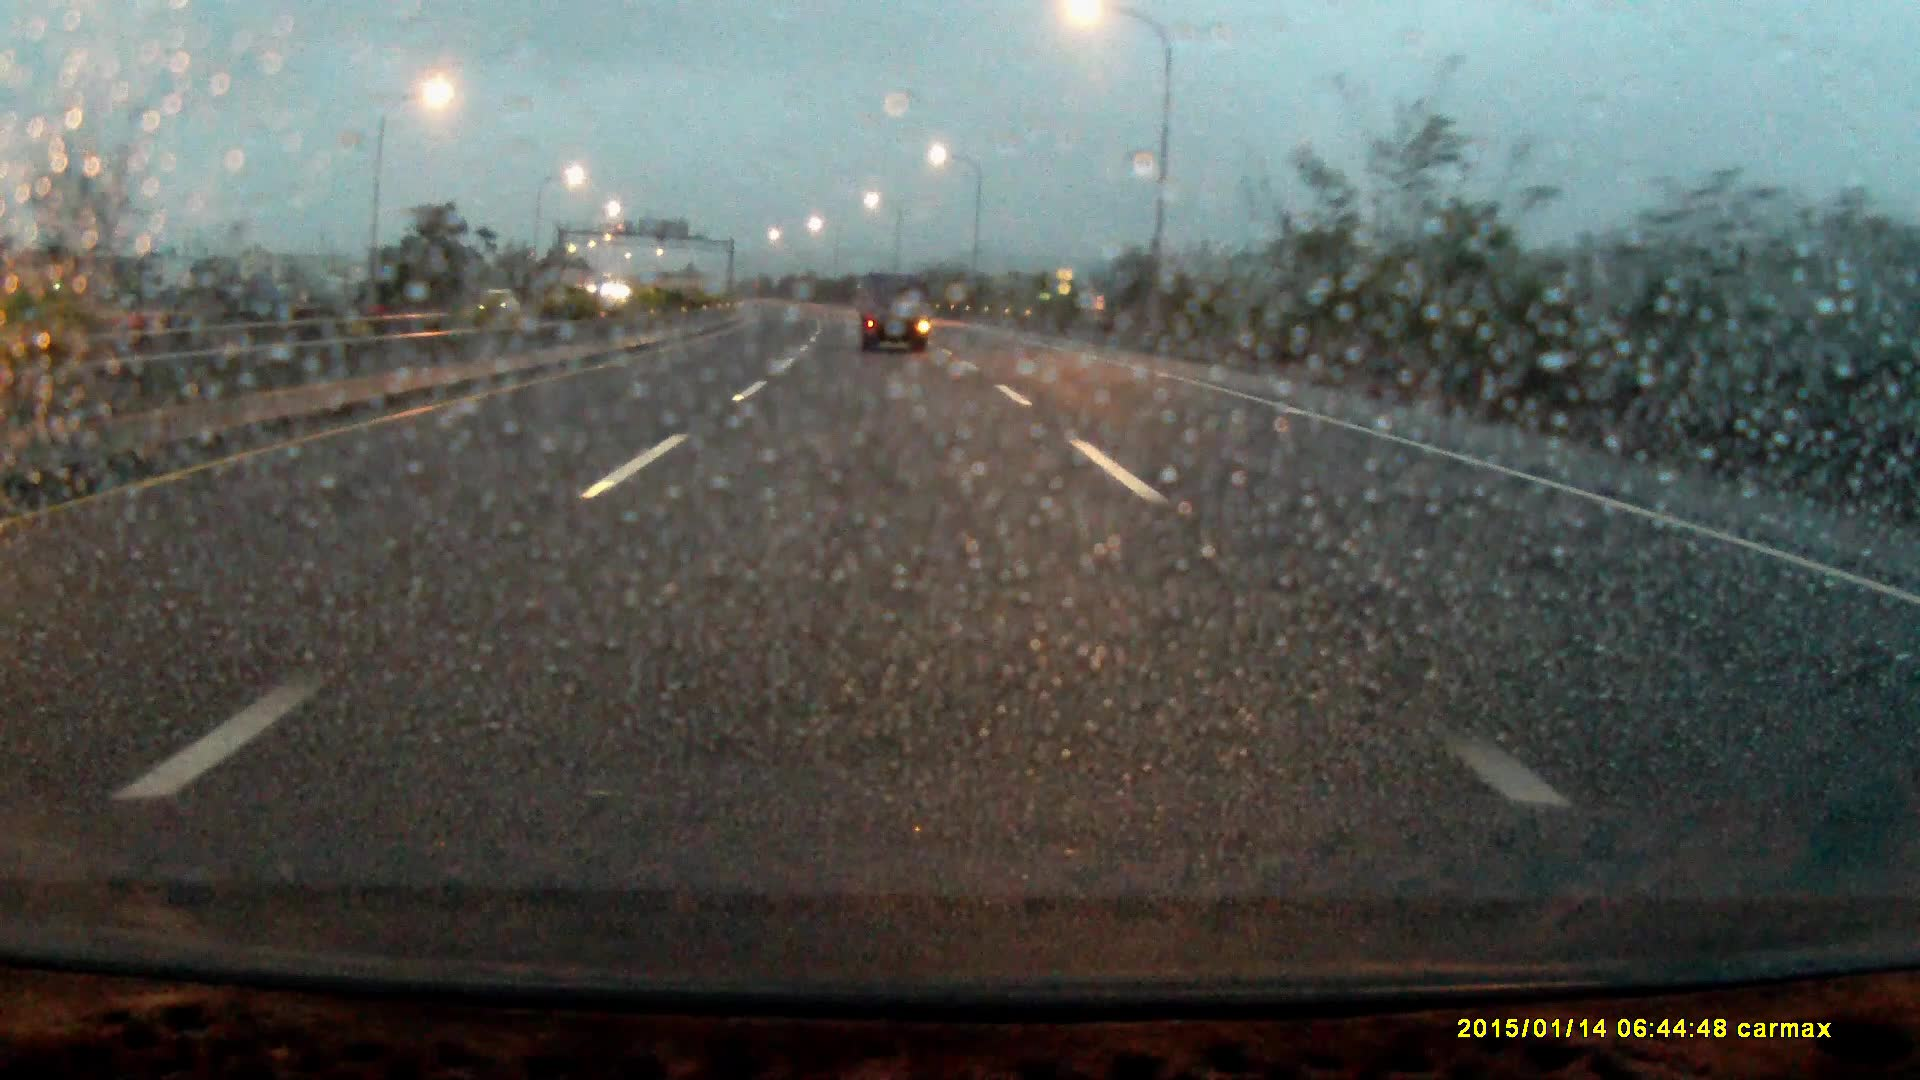vehicle: (858, 270, 930, 352), (471, 284, 535, 320)
